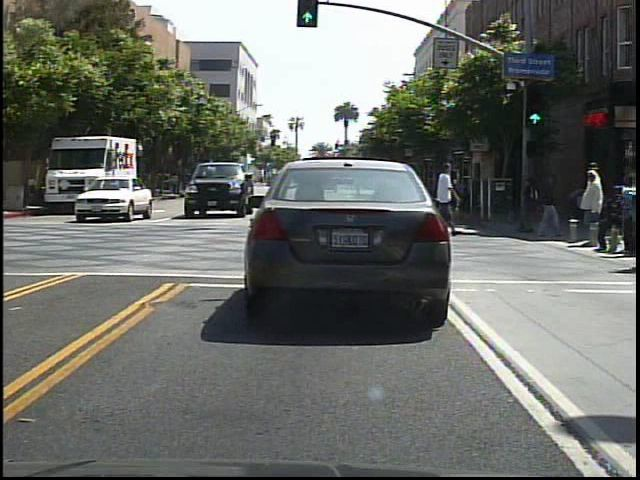person: (431, 149, 468, 246), (533, 170, 566, 242), (582, 166, 606, 254), (520, 172, 549, 237)
